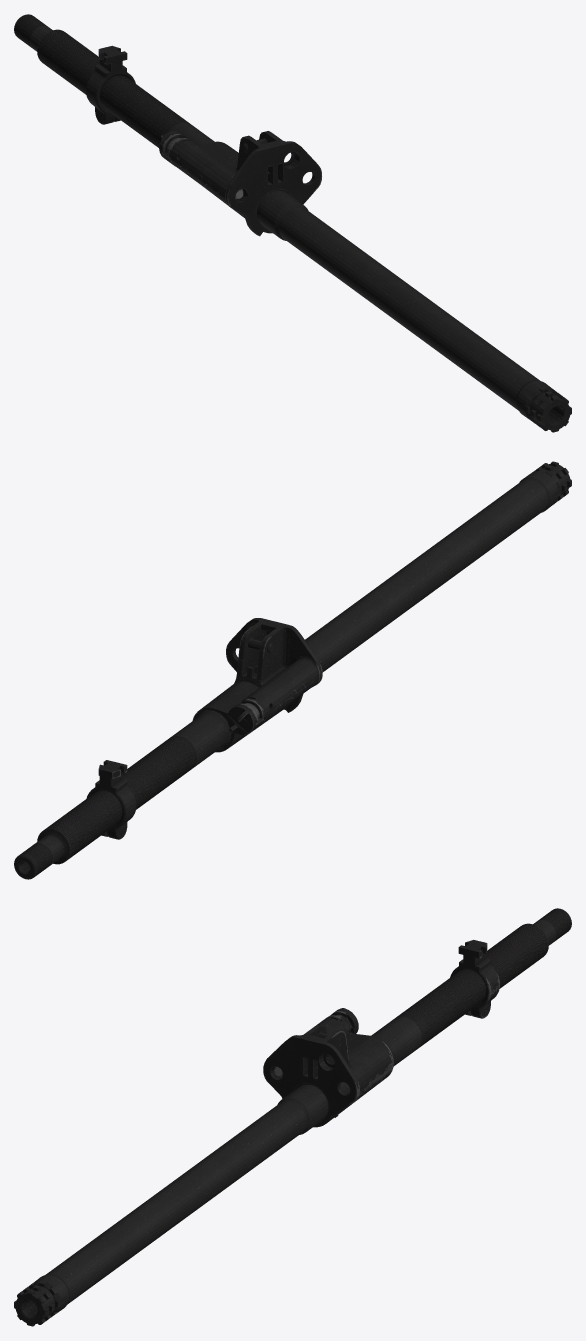
3 renders of one model, top to bottom at view 1: azimuth 30°, elevation 25°; view 2: azimuth 150°, elevation 25°; view 3: azimuth 330°, elevation 25°, orthographic.
Parts seen in each view (by area): view 1: TW_62e7c7f3c34ea971710c32fc_PZ_Import; view 2: TW_62e7c7f3c34ea971710c32fc_PZ_Import; view 3: TW_62e7c7f3c34ea971710c32fc_PZ_Import.
Boxes of the visible parts, x1,y1,x2,y2 form: TW_62e7c7f3c34ea971710c32fc_PZ_Import: (14,14,571,432); TW_62e7c7f3c34ea971710c32fc_PZ_Import: (14,461,571,879); TW_62e7c7f3c34ea971710c32fc_PZ_Import: (14,908,571,1326).
Bounding box in the file's own units: 0.0301 × 0.2955 × 0.0289.
1 material, 1 textured.
